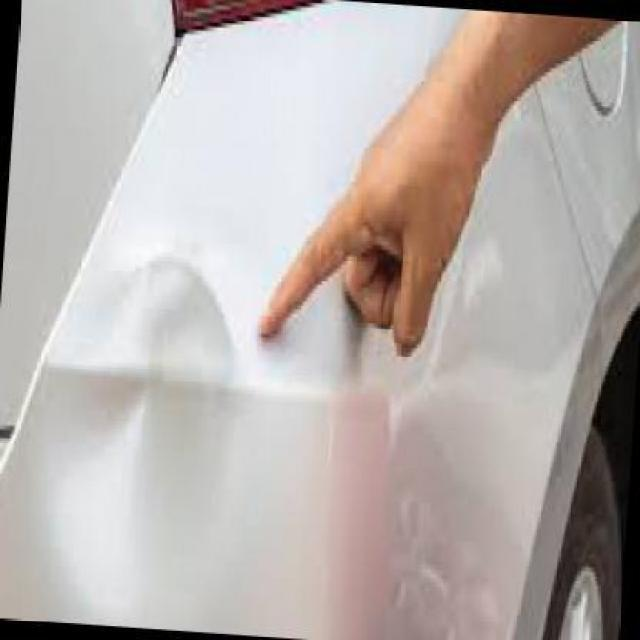dent: (49, 263, 231, 568)
